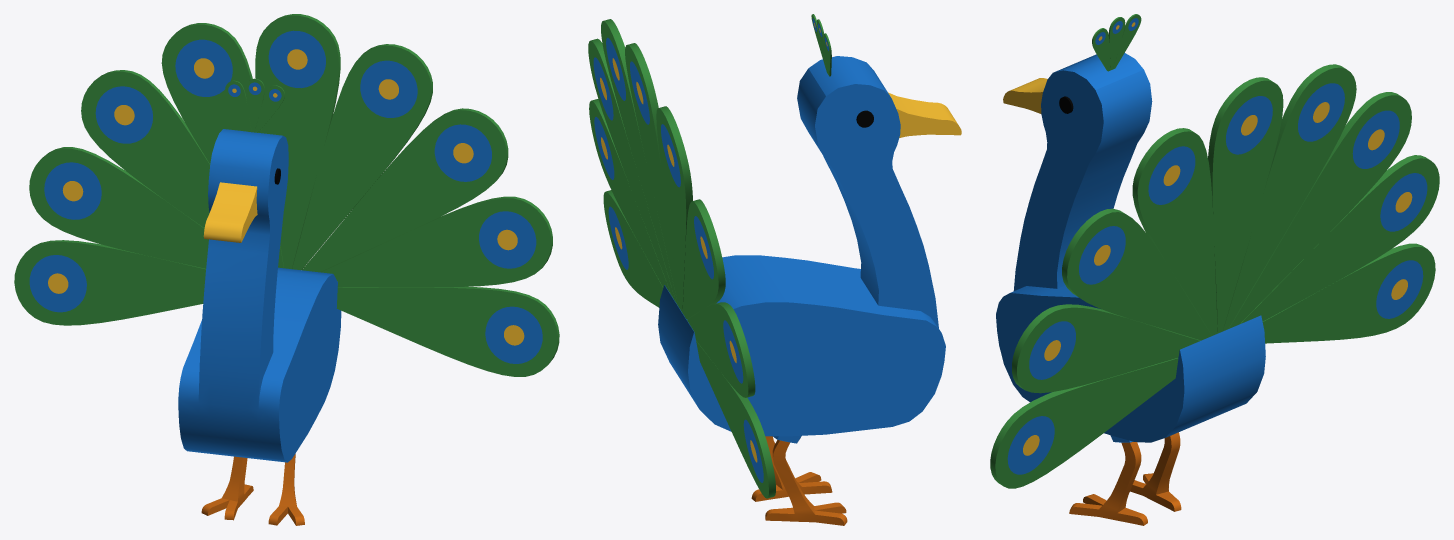
Rendered from peacock.gltf.
The picture shows the model from 3 angles, left to right: view 1: azimuth 30°, elevation 25°; view 2: azimuth 150°, elevation 25°; view 3: azimuth 270°, elevation 25°; orthographic projection. The views are drawn at different scales.
Visible parts, largest first — view 1: Cube.035; view 2: Cube.035; view 3: Cube.035.
Boxes of the visible parts, box(x1,y1,x2,y2) form: Cube.035: box(14, 14, 559, 525); Cube.035: box(588, 14, 961, 525); Cube.035: box(990, 14, 1439, 525).
Bounding box in the file's own units: 1.71 × 2.02 × 1.71.
1 material, 1 textured.
